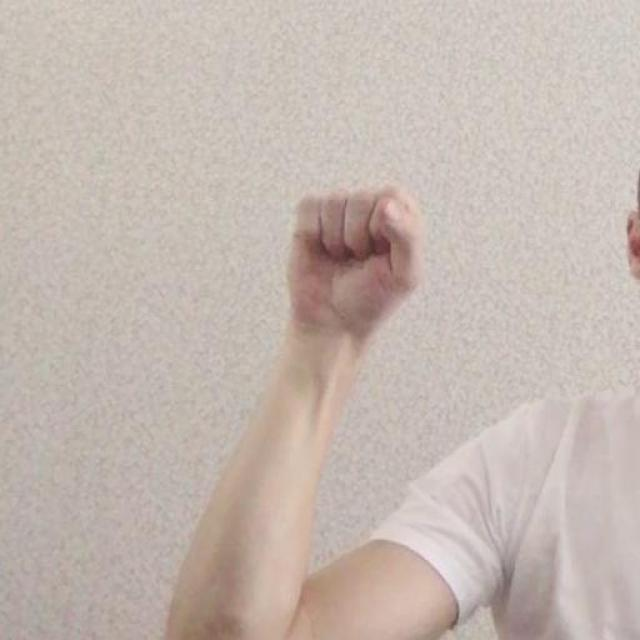hand: (285, 178, 429, 344)
